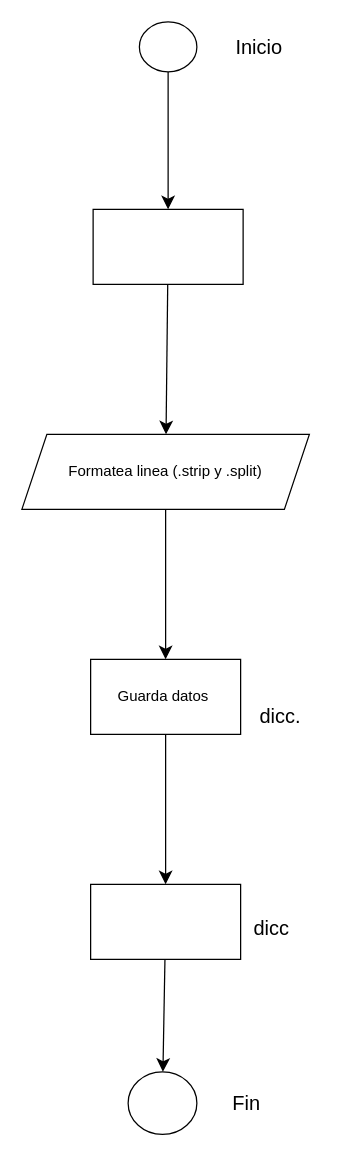
This 340x1156 diagram has some shape labels left out. Here are the shapes that lost their labels. From the top down, the centre of each, then its label:
At pixel 167 246: "Recibe linea".
At pixel 165 921: "Retorna participante".
